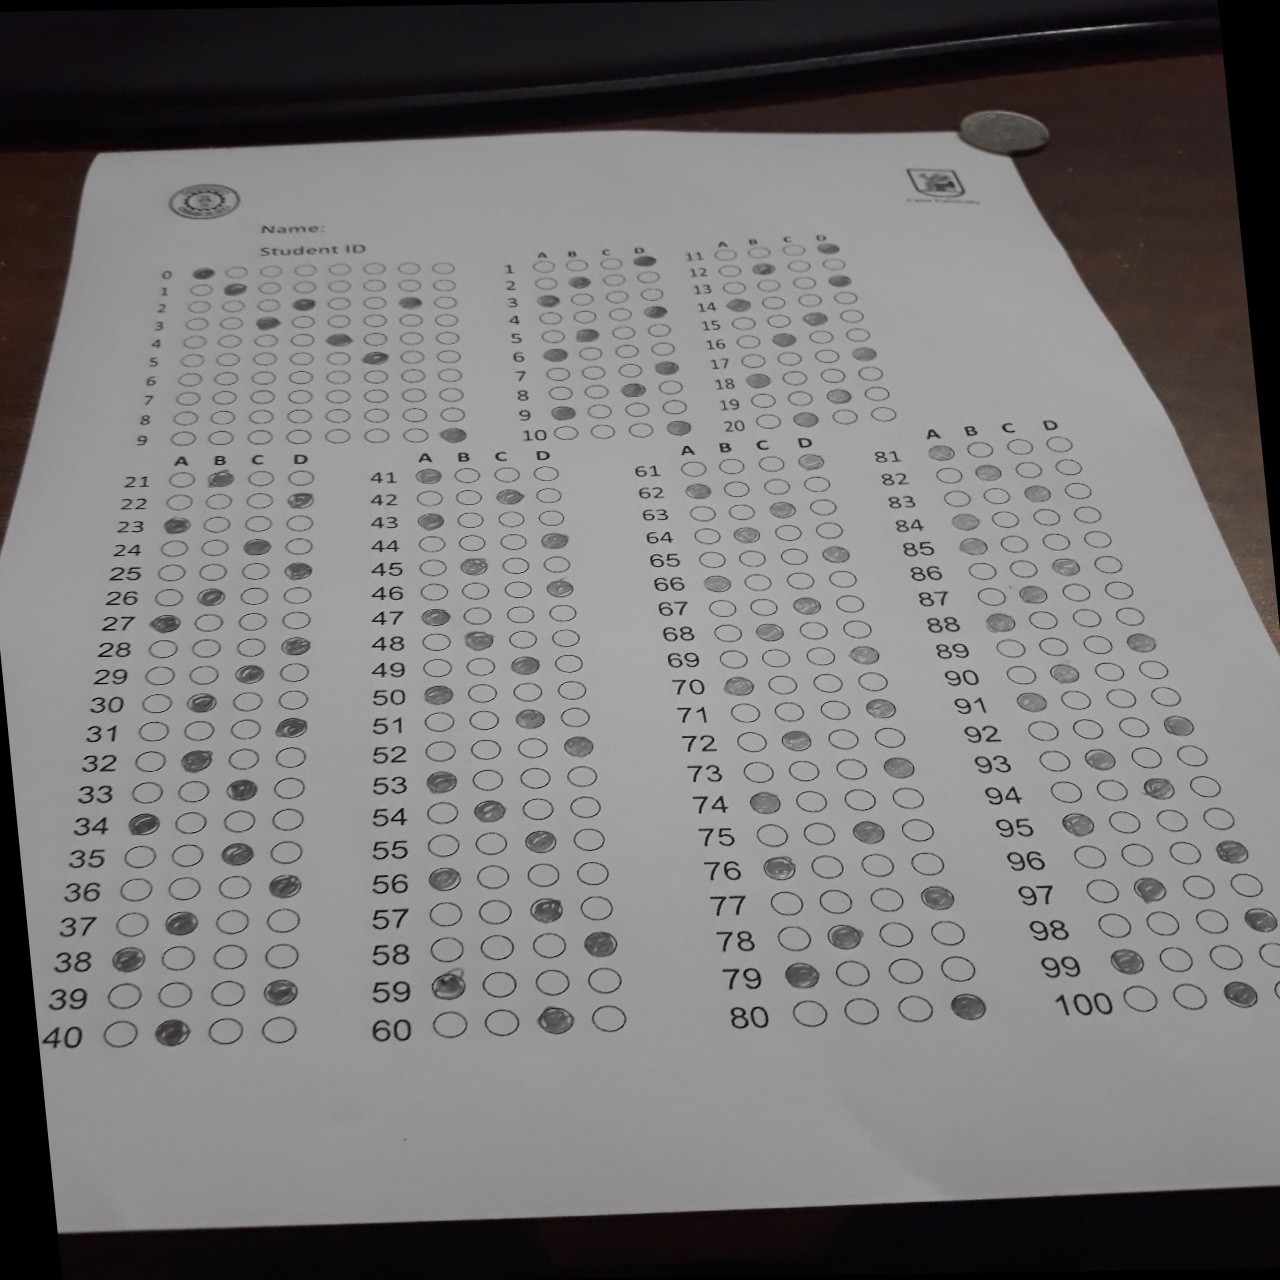not-c: (103, 980, 147, 1012), (204, 1015, 247, 1046), (98, 1017, 141, 1048), (258, 1014, 301, 1043), (154, 980, 197, 1009), (840, 995, 881, 1024), (260, 941, 300, 971), (113, 908, 152, 938), (833, 958, 873, 987), (1170, 981, 1210, 1010), (157, 942, 198, 971), (209, 942, 250, 971), (215, 871, 256, 899), (530, 930, 568, 959), (896, 993, 934, 1022), (1192, 906, 1231, 935), (1199, 803, 1238, 832), (1152, 804, 1191, 833), (1091, 774, 1130, 803), (1165, 838, 1205, 866), (1103, 806, 1143, 835), (1046, 776, 1085, 804), (207, 979, 248, 1006), (212, 907, 253, 934), (585, 965, 622, 994), (1071, 840, 1109, 870), (577, 893, 615, 921), (428, 935, 467, 964), (588, 1003, 627, 1032), (264, 905, 302, 933), (117, 874, 156, 903), (165, 874, 204, 903), (928, 918, 967, 946), (939, 955, 978, 983), (790, 998, 829, 1026), (1119, 983, 1158, 1012), (1207, 941, 1246, 969), (1156, 945, 1194, 973), (1143, 908, 1182, 937), (1083, 874, 1122, 903), (1117, 840, 1156, 869), (425, 900, 465, 927), (168, 840, 207, 867), (1094, 910, 1133, 937), (1185, 772, 1225, 799), (479, 969, 517, 998), (532, 968, 570, 996), (430, 1009, 468, 1037), (1226, 870, 1264, 898), (1179, 872, 1217, 900), (482, 1008, 520, 1035), (266, 837, 305, 864), (222, 808, 260, 835), (857, 850, 896, 877), (774, 924, 812, 951), (886, 956, 925, 983), (120, 843, 159, 869), (127, 779, 166, 805), (477, 933, 515, 960), (808, 853, 845, 880), (767, 888, 804, 915), (268, 806, 307, 832), (172, 809, 211, 835), (173, 778, 212, 804), (869, 884, 905, 911), (270, 775, 308, 799), (474, 863, 510, 888), (908, 850, 945, 876), (817, 887, 853, 913), (1102, 685, 1138, 710), (570, 826, 607, 851), (476, 898, 513, 922), (877, 921, 914, 946), (1035, 748, 1073, 772), (525, 862, 561, 886), (825, 726, 862, 750), (753, 823, 789, 847), (1023, 717, 1060, 742), (474, 830, 509, 855), (801, 821, 836, 845), (1116, 713, 1151, 737), (135, 719, 171, 742), (273, 688, 309, 712), (141, 663, 177, 687), (185, 663, 222, 687), (277, 661, 313, 685), (740, 760, 776, 783), (842, 787, 878, 810), (888, 787, 925, 810), (576, 860, 610, 885), (425, 801, 461, 824), (226, 745, 261, 769), (132, 749, 168, 772), (181, 719, 216, 742), (189, 635, 224, 659), (833, 756, 869, 779), (1070, 715, 1105, 738), (1148, 685, 1183, 708), (230, 690, 266, 713), (138, 692, 175, 714), (871, 726, 907, 748), (899, 818, 935, 840), (1126, 745, 1163, 768), (229, 716, 263, 740), (794, 789, 828, 812), (424, 738, 459, 761), (515, 736, 550, 758), (563, 764, 598, 787), (567, 795, 602, 817), (272, 745, 307, 768), (785, 758, 821, 781), (1005, 557, 1040, 579), (191, 611, 227, 632), (279, 585, 315, 606), (196, 561, 232, 583), (425, 833, 459, 856), (1175, 743, 1208, 765), (992, 636, 1026, 659), (1069, 606, 1103, 628), (1060, 580, 1094, 602), (196, 537, 233, 557), (468, 738, 503, 760), (518, 765, 553, 787), (520, 798, 556, 819), (233, 636, 268, 658), (145, 638, 181, 659), (1003, 663, 1039, 685), (1024, 608, 1060, 629), (973, 586, 1008, 607), (1090, 553, 1125, 574), (1081, 527, 1116, 549), (1071, 502, 1104, 524), (278, 610, 314, 629), (237, 585, 273, 605), (154, 561, 190, 581), (237, 561, 273, 581), (280, 535, 316, 554), (162, 491, 198, 511), (471, 769, 505, 790), (810, 672, 844, 693), (1058, 688, 1092, 709), (1092, 661, 1126, 682), (1136, 659, 1170, 680), (1080, 633, 1114, 654), (1036, 635, 1070, 656), (1111, 606, 1145, 627), (1101, 579, 1135, 600), (965, 560, 999, 581), (1039, 530, 1073, 551), (996, 533, 1030, 554), (1012, 459, 1046, 481), (962, 437, 996, 458), (234, 611, 270, 631), (157, 538, 192, 558), (817, 699, 850, 720), (772, 700, 805, 721), (988, 508, 1021, 529), (941, 486, 974, 508), (932, 464, 965, 485), (1041, 433, 1074, 454), (151, 587, 188, 606), (282, 513, 316, 533), (734, 731, 768, 751), (1002, 435, 1036, 455), (856, 670, 887, 692), (717, 648, 749, 669), (199, 515, 234, 533), (202, 491, 237, 510), (1257, 940, 1280, 968), (511, 681, 544, 701), (467, 682, 499, 702), (423, 712, 456, 731), (728, 702, 761, 722), (1029, 506, 1062, 526), (1062, 481, 1095, 501), (979, 485, 1012, 505), (1051, 456, 1084, 476), (554, 680, 588, 699), (241, 513, 275, 532), (459, 580, 491, 600), (559, 707, 591, 727), (840, 619, 872, 639), (760, 647, 791, 667), (767, 674, 798, 694), (468, 710, 501, 729), (422, 658, 452, 678), (756, 452, 787, 472), (418, 583, 450, 601), (502, 579, 533, 598), (461, 605, 492, 624), (504, 605, 536, 624), (508, 629, 539, 648), (420, 632, 451, 651), (799, 474, 831, 492), (748, 595, 779, 614), (712, 622, 743, 641), (547, 602, 578, 621), (465, 656, 496, 675), (286, 468, 316, 486), (692, 526, 722, 545), (736, 549, 767, 567), (797, 620, 828, 639), (804, 645, 835, 663), (414, 489, 445, 506), (496, 510, 527, 527), (550, 628, 581, 646), (707, 599, 738, 617), (166, 470, 196, 489), (246, 468, 275, 486), (761, 476, 790, 495), (772, 522, 802, 540), (697, 549, 727, 567), (743, 572, 772, 591), (243, 491, 275, 508), (552, 654, 583, 672), (678, 459, 708, 477), (715, 456, 745, 474), (721, 478, 751, 496), (806, 497, 837, 515), (784, 571, 815, 588), (826, 568, 857, 586), (835, 594, 865, 612), (727, 502, 755, 520), (688, 503, 716, 522), (815, 520, 843, 539), (416, 535, 445, 552), (501, 556, 530, 573), (542, 554, 571, 572), (417, 558, 447, 576), (830, 407, 859, 424), (778, 546, 808, 564), (536, 509, 566, 525), (456, 511, 486, 527), (456, 535, 486, 551), (248, 388, 277, 406), (246, 428, 274, 445), (649, 340, 678, 358), (452, 489, 484, 504), (251, 332, 280, 348), (492, 465, 522, 482), (498, 532, 527, 549), (622, 401, 652, 417), (862, 384, 891, 401), (530, 465, 560, 481), (656, 379, 685, 395), (547, 384, 576, 401), (580, 365, 608, 381), (577, 345, 605, 361), (734, 333, 762, 349), (215, 333, 244, 348), (325, 350, 354, 366), (434, 349, 463, 365), (660, 399, 689, 414), (543, 366, 572, 381), (539, 328, 568, 343), (818, 367, 847, 382), (748, 392, 777, 407), (869, 406, 898, 421), (175, 389, 202, 406), (169, 429, 196, 445), (248, 408, 275, 424), (325, 388, 352, 404), (363, 427, 390, 443), (440, 406, 467, 422), (178, 353, 206, 368), (171, 410, 199, 425), (250, 370, 278, 386), (284, 429, 312, 444), (287, 389, 315, 404), (288, 332, 316, 347), (362, 388, 390, 403), (361, 331, 389, 346), (397, 329, 425, 345), (399, 349, 427, 365), (400, 367, 428, 382), (401, 427, 429, 442), (452, 467, 481, 482), (535, 486, 563, 502), (588, 423, 617, 438), (586, 403, 614, 418), (617, 362, 645, 377), (613, 343, 641, 359), (645, 322, 673, 338), (818, 256, 846, 271), (730, 315, 758, 331), (843, 327, 871, 342), (856, 365, 884, 380), (207, 430, 234, 445), (210, 409, 237, 424), (211, 390, 238, 406), (215, 350, 241, 366), (251, 350, 278, 366), (286, 409, 313, 424), (325, 369, 352, 384), (325, 407, 352, 422), (324, 428, 350, 443), (363, 408, 390, 423), (362, 369, 389, 384), (436, 367, 463, 382), (438, 387, 465, 402), (401, 387, 428, 402), (401, 407, 428, 422), (553, 424, 580, 440), (628, 422, 655, 437), (583, 383, 610, 399), (610, 325, 636, 340), (808, 328, 835, 343), (774, 350, 801, 366), (781, 369, 808, 384), (787, 390, 813, 406), (754, 413, 781, 428), (434, 331, 462, 345), (536, 309, 564, 324), (571, 309, 599, 324), (790, 275, 818, 290), (326, 313, 352, 328), (292, 263, 319, 277), (361, 261, 388, 275), (188, 282, 215, 297), (212, 372, 239, 386), (288, 370, 315, 384), (288, 350, 315, 365), (607, 307, 634, 321), (533, 275, 560, 290), (601, 272, 628, 286), (745, 245, 772, 259), (781, 241, 808, 256), (796, 292, 823, 306), (760, 295, 787, 309), (738, 353, 765, 367), (813, 348, 840, 362), (326, 279, 352, 293), (361, 278, 387, 292), (399, 313, 424, 327), (361, 295, 387, 309), (185, 316, 211, 331), (602, 290, 631, 302), (563, 258, 591, 271), (530, 259, 558, 272), (394, 263, 421, 275), (429, 261, 456, 274), (433, 295, 459, 308), (361, 313, 388, 326), (638, 287, 665, 300), (568, 292, 595, 305), (635, 270, 662, 282), (597, 257, 624, 270), (785, 259, 812, 272), (721, 281, 748, 294), (755, 278, 782, 291), (832, 290, 859, 302), (765, 313, 792, 326), (839, 308, 866, 321), (178, 372, 203, 386), (258, 265, 284, 278), (257, 281, 282, 294), (256, 299, 281, 312), (326, 263, 352, 275), (396, 279, 422, 292), (434, 313, 459, 326), (326, 297, 352, 309), (291, 315, 316, 328), (220, 299, 246, 312), (219, 316, 245, 329), (185, 300, 211, 313), (182, 335, 207, 348), (713, 248, 738, 261), (717, 264, 743, 277), (224, 265, 248, 278), (292, 280, 316, 293), (433, 278, 457, 291), (1271, 978, 1280, 1005)
taken-c: (107, 944, 148, 974), (263, 871, 304, 901), (945, 990, 988, 1019), (428, 971, 469, 1000), (151, 1019, 192, 1048), (125, 809, 165, 838), (535, 1006, 576, 1034), (260, 978, 301, 1006), (424, 865, 464, 893), (162, 908, 202, 937), (217, 840, 257, 869), (779, 961, 821, 988), (273, 714, 312, 741), (1220, 980, 1259, 1007), (526, 896, 564, 922), (223, 775, 260, 802), (178, 748, 217, 774), (583, 930, 619, 956), (1132, 876, 1169, 903), (760, 855, 797, 880), (1212, 838, 1250, 863), (1241, 906, 1279, 931), (1108, 948, 1145, 973), (880, 753, 915, 778), (1058, 811, 1097, 835), (747, 789, 783, 813), (918, 884, 954, 908), (825, 924, 862, 948), (472, 798, 508, 823), (849, 819, 885, 843), (524, 830, 559, 853), (184, 692, 220, 714), (277, 635, 313, 658), (148, 611, 184, 633), (425, 770, 459, 794), (779, 728, 813, 751), (1160, 713, 1194, 736), (193, 585, 229, 607), (561, 734, 594, 757), (231, 663, 267, 685), (239, 536, 275, 557), (846, 644, 883, 665), (863, 696, 897, 719), (1083, 747, 1115, 770), (515, 708, 547, 730), (1142, 777, 1175, 799), (722, 676, 758, 696), (1125, 631, 1157, 653), (421, 683, 454, 704), (282, 561, 315, 583), (544, 578, 576, 599), (509, 654, 540, 675), (1016, 690, 1048, 712), (1048, 663, 1081, 683), (539, 530, 570, 551), (161, 515, 192, 535), (1020, 483, 1051, 503), (949, 511, 981, 531), (985, 612, 1016, 632), (493, 486, 524, 506), (463, 631, 493, 651), (285, 489, 315, 509), (973, 462, 1005, 481), (956, 536, 988, 554), (1049, 557, 1081, 576), (1017, 584, 1049, 602), (821, 544, 850, 564), (792, 595, 822, 615), (420, 607, 450, 626), (754, 622, 784, 641), (926, 442, 956, 461), (651, 359, 682, 376), (458, 557, 488, 576), (207, 469, 237, 488), (703, 574, 733, 593), (415, 512, 445, 530), (324, 331, 355, 347), (685, 481, 712, 499), (253, 314, 284, 331), (572, 327, 602, 343), (797, 452, 825, 470), (360, 349, 392, 365), (440, 427, 469, 443), (769, 501, 796, 518), (395, 294, 425, 309), (662, 420, 693, 435), (731, 526, 760, 543), (290, 297, 319, 312), (413, 468, 442, 483), (547, 404, 577, 420), (619, 382, 648, 397), (542, 346, 570, 361), (825, 388, 853, 403), (770, 332, 797, 347), (849, 346, 876, 361), (744, 373, 771, 388), (802, 311, 828, 326), (535, 293, 561, 307), (191, 266, 217, 280), (726, 298, 751, 312), (815, 240, 840, 254), (794, 411, 819, 425), (222, 282, 248, 295), (750, 261, 775, 275), (642, 305, 668, 318), (632, 253, 658, 266), (566, 275, 592, 288), (826, 273, 851, 286)
